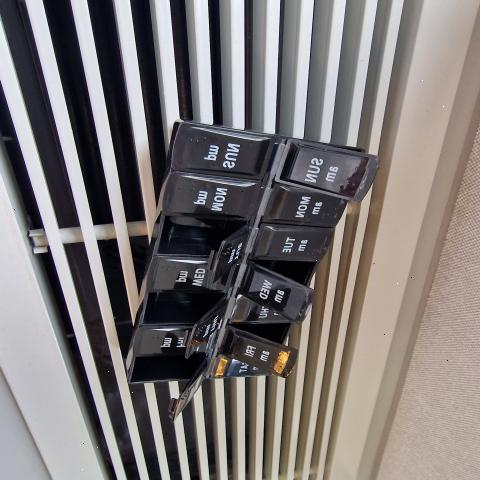Open: (161, 217, 252, 280), (130, 351, 210, 415), (138, 292, 229, 324), (232, 323, 292, 361), (254, 262, 319, 295), (309, 146, 370, 160)
